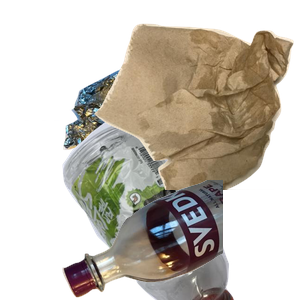glass: (60, 180, 300, 300)
metal: (61, 54, 225, 202)
plastic: (25, 120, 252, 300)
trash: (92, 21, 300, 201)
